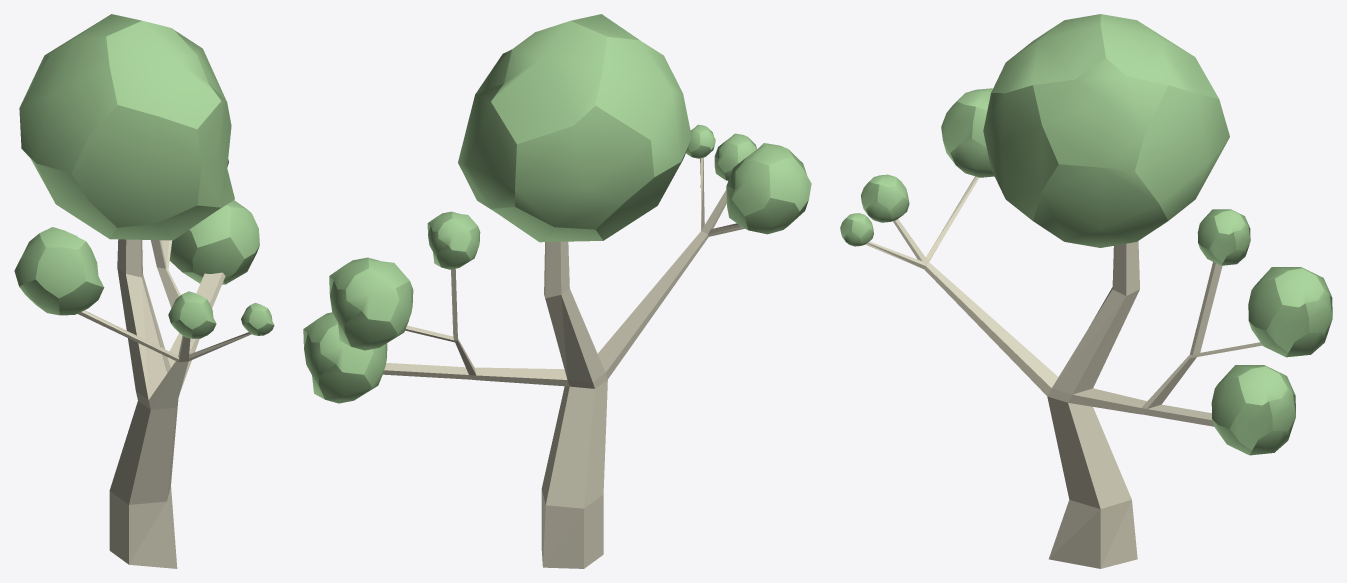
File: Tree 2.fbx
3 renders of one model, left to right at view 1: azimuth 30°, elevation 25°; view 2: azimuth 150°, elevation 25°; view 3: azimuth 270°, elevation 25°, orthographic.
Visible parts, largest first — view 1: pPlatonic1, Stem2, pPlatonic4, pPlatonic7, pPlatonic5, pPlatonic6; view 2: pPlatonic1, Stem2, pPlatonic9, pPlatonic4, pPlatonic7, pPlatonic8, pPlatonic5, pPlatonic6; view 3: pPlatonic1, Stem2, pPlatonic9, pPlatonic7, pPlatonic4, pPlatonic8, pPlatonic5, pPlatonic6.
Boxes of the visible parts, x1,y1,x2,y2 form: pPlatonic1: (19,14,234,240); Stem2: (77,239,251,568); pPlatonic4: (14,227,104,315); pPlatonic7: (169,200,259,284); pPlatonic5: (168,291,216,338); pPlatonic6: (241,303,274,335); pPlatonic1: (458,14,691,242); Stem2: (383,157,744,568); pPlatonic9: (329,257,413,350); pPlatonic4: (726,143,811,234); pPlatonic7: (303,312,387,403); pPlatonic8: (427,211,480,269); pPlatonic5: (714,133,757,180); pPlatonic6: (686,124,715,158); pPlatonic1: (983,14,1229,247); Stem2: (865,176,1262,568); pPlatonic9: (1248,267,1332,357); pPlatonic7: (1211,365,1295,455); pPlatonic4: (941,88,994,177); pPlatonic8: (1197,209,1250,265); pPlatonic5: (861,174,909,222); pPlatonic6: (840,213,873,246).
Bounding box in the file's own units: 12.68 × 17.76 × 14.95.
